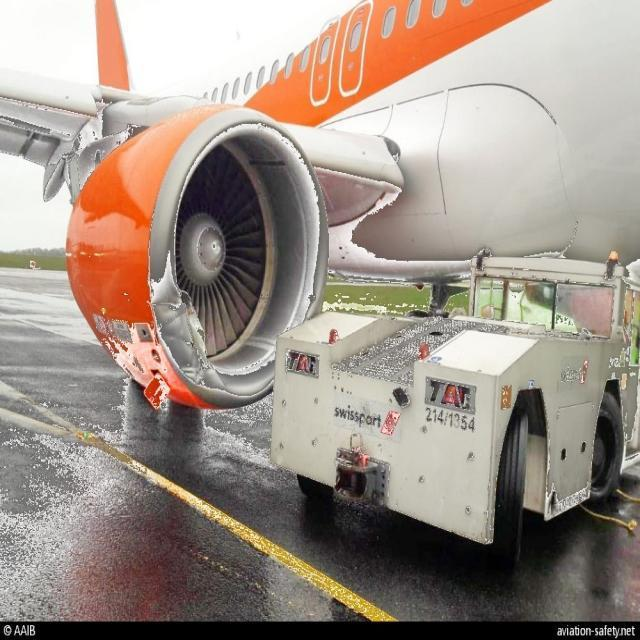crack: (179, 289, 210, 373)
